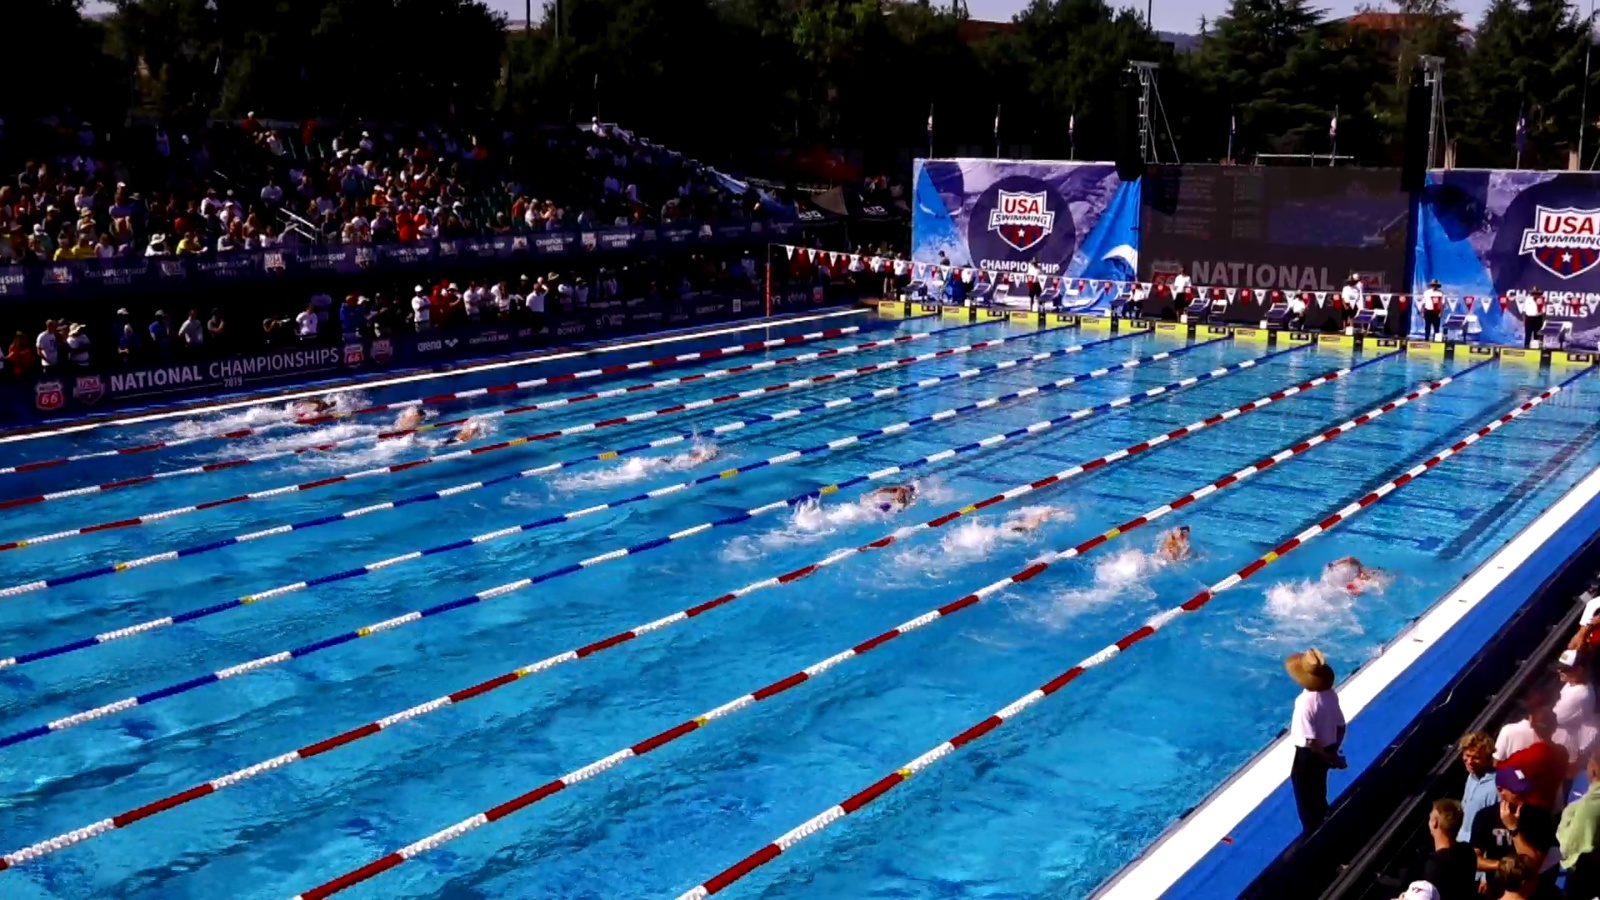swimmerw: (1281, 562, 1386, 626), (1120, 523, 1199, 587), (829, 474, 923, 526), (971, 504, 1066, 553), (634, 441, 727, 478), (412, 420, 500, 454), (349, 408, 432, 443), (266, 395, 345, 421)
